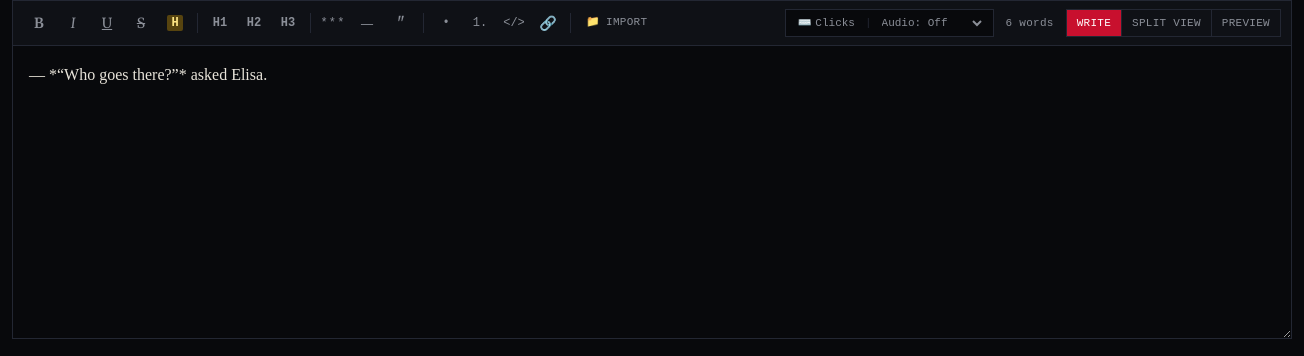
MarkdownEditor Component › switches to split view mode showing both editor and live preview
# Click Split View
What coordinates should you click on to do the following:
click the button "Split View"
I would click on:
 (1166, 23)
Its box is 1121,10 -> 1211,36.
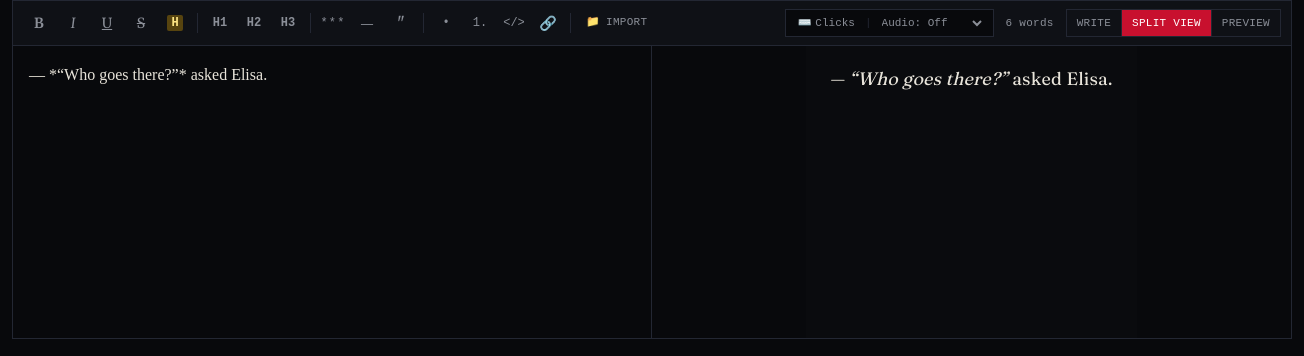
Expected: the text box showing "— *“Who goes there?”* asked Elisa." is shown, 13,46 -> 651,338
Now the element with class "md-preview" shows "“Who goes there?” asked Elisa.", box 806,46 -> 1137,338
